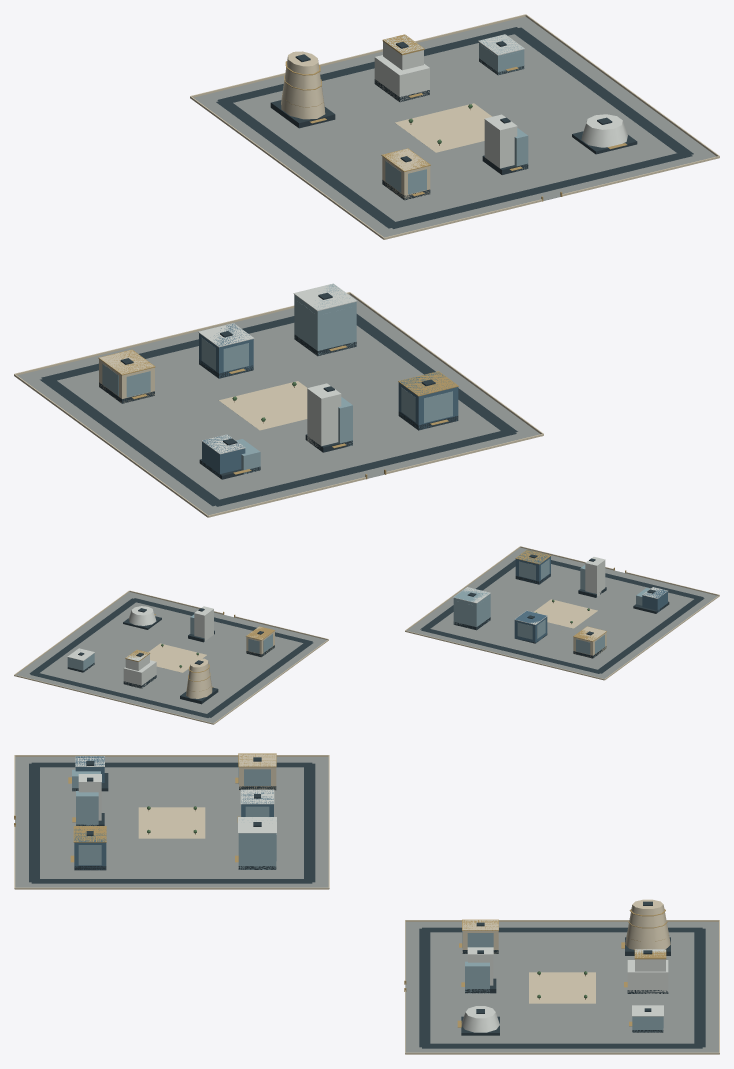
The model's file is GC-TILE-18-03.glb.
3 views of the same model, one above another, from view 1: azimuth 30°, elevation 25°; view 2: azimuth 150°, elevation 25°; view 3: azimuth 270°, elevation 25° (orthographic). The views are drawn at different scales.
Parts seen in each view (by area): view 1: GC-TILE-18-03-paving, GC-TILE-18-03-dark, GC-TILE-18-03-ivory, GC-TILE-18-03-white, GC-TILE-18-03-glass, GC-TILE-18-03-blue, GC-TILE-18-03-gold; view 2: GC-TILE-18-03-paving, GC-TILE-18-03-dark, GC-TILE-18-03-ivory, GC-TILE-18-03-white, GC-TILE-18-03-glass, GC-TILE-18-03-blue, GC-TILE-18-03-gold; view 3: GC-TILE-18-03-paving, GC-TILE-18-03-dark, GC-TILE-18-03-ivory, GC-TILE-18-03-glass, GC-TILE-18-03-white, GC-TILE-18-03-gold, GC-TILE-18-03-blue.
Boxes of the visible parts, <box> form: GC-TILE-18-03-paving: <box>17,16,716,515</box>; GC-TILE-18-03-dark: <box>40,27,693,506</box>; GC-TILE-18-03-ivory: <box>14,14,719,517</box>; GC-TILE-18-03-white: <box>198,34,627,454</box>; GC-TILE-18-03-glass: <box>102,35,528,474</box>; GC-TILE-18-03-blue: <box>199,323,458,476</box>; GC-TILE-18-03-gold: <box>98,34,627,479</box>; GC-TILE-18-03-paving: <box>16,547,717,723</box>; GC-TILE-18-03-dark: <box>29,554,704,717</box>; GC-TILE-18-03-ivory: <box>14,546,719,724</box>; GC-TILE-18-03-white: <box>67,557,667,688</box>; GC-TILE-18-03-glass: <box>67,559,650,672</box>; GC-TILE-18-03-blue: <box>514,550,667,642</box>; GC-TILE-18-03-gold: <box>125,549,626,691</box>; GC-TILE-18-03-paving: <box>15,757,718,1052</box>; GC-TILE-18-03-dark: <box>29,757,705,1048</box>; GC-TILE-18-03-ivory: <box>14,753,719,1054</box>; GC-TILE-18-03-glass: <box>72,767,663,1032</box>; GC-TILE-18-03-white: <box>75,756,668,1032</box>; GC-TILE-18-03-gold: <box>14,753,667,1027</box>; GC-TILE-18-03-blue: <box>74,756,273,870</box>.
Size of the model in its own units: 759 by 54.19 by 760.
